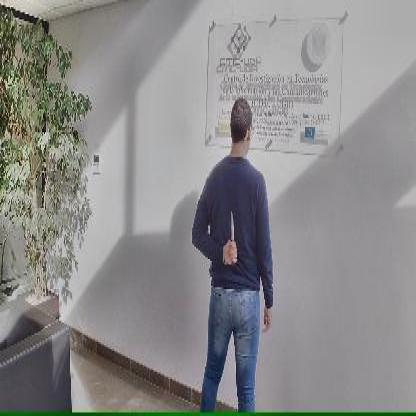knife: (226, 205, 238, 267)
